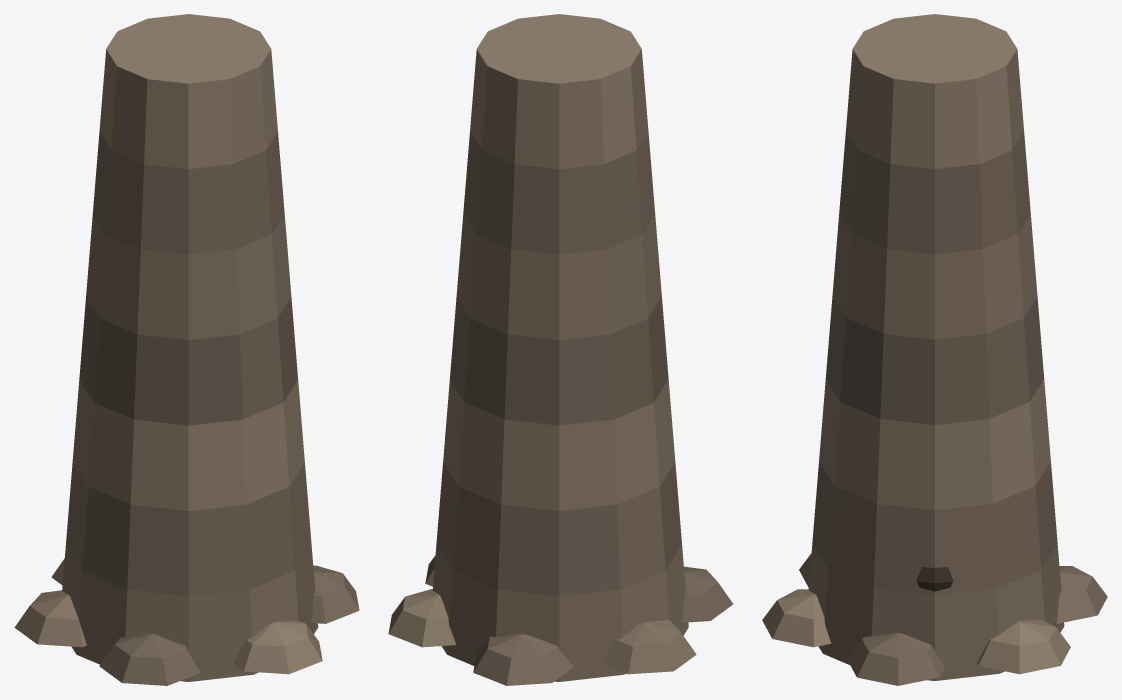
Rendered from oak_trunk.glb.
3 renders of one model, left to right at view 1: azimuth 30°, elevation 25°; view 2: azimuth 150°, elevation 25°; view 3: azimuth 270°, elevation 25°, orthographic.
Parts seen in each view (by area): view 1: ../env/oak_trunk; view 2: ../env/oak_trunk; view 3: ../env/oak_trunk.
Boxes of the visible parts, <box> form: ../env/oak_trunk: <box>14,14,359,685</box>; ../env/oak_trunk: <box>388,14,733,685</box>; ../env/oak_trunk: <box>762,14,1107,685</box>.
Size of the model in its own units: 3.53 by 6.65 by 3.61.
